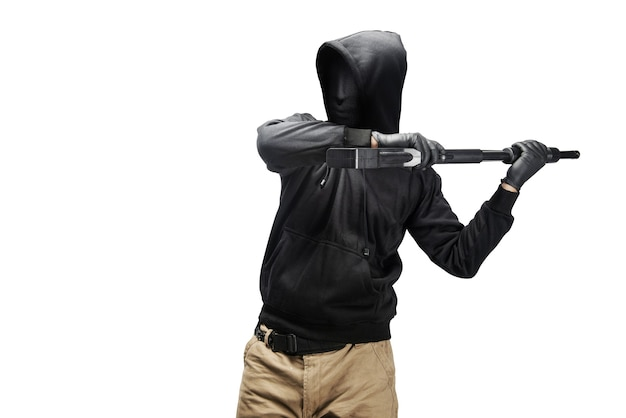gun: (322, 144, 579, 172)
